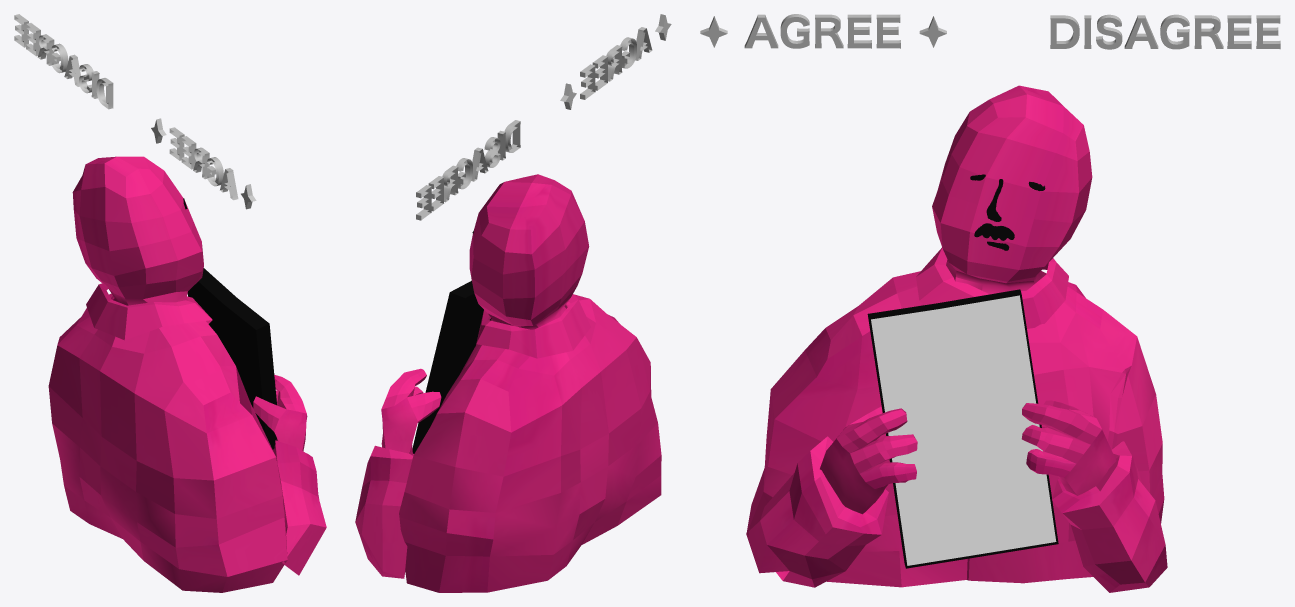
Rendered from read_man0.glb.
3 renders of one model, left to right at view 1: azimuth 30°, elevation 25°; view 2: azimuth 150°, elevation 25°; view 3: azimuth 270°, elevation 25°, orthographic. The views are drawn at different scales.
Visible parts, largest first — view 1: Box002_005, Box011, 投票字卡.svg.003, Object004.001, Box009; view 2: Box002_005, 投票字卡.svg.003, Object004.001, Box011, Box010; view 3: Box002_005, Box011, Object004.001, 投票字卡.svg.003, Box009, Box010, 表情.svg.
Boxes of the visible parts, left/top/right/bottom form: Box002_005: left=48, top=156, right=287, bottom=592; Box011: left=187, top=268, right=276, bottom=449; 投票字卡.svg.003: left=14, top=14, right=256, bottom=209; Object004.001: left=273, top=440, right=326, bottom=575; Box009: left=253, top=374, right=307, bottom=451; Box002_005: left=399, top=174, right=661, bottom=592; 投票字卡.svg.003: left=416, top=14, right=671, bottom=220; Object004.001: left=355, top=445, right=413, bottom=578; Box011: left=412, top=280, right=491, bottom=453; Box010: left=381, top=368, right=441, bottom=455; Box002_005: left=746, top=85, right=1164, bottom=587; Box011: left=867, top=289, right=1058, bottom=568; Object004.001: left=746, top=436, right=1167, bottom=592; 投票字卡.svg.003: left=700, top=14, right=1280, bottom=49; Box009: left=820, top=406, right=917, bottom=514; Box010: left=1021, top=400, right=1116, bottom=495; 表情.svg: left=970, top=174, right=1045, bottom=250.
Bounding box in the file's own units: 1.35 × 3.16 × 3.19.
Materials: 5 (1 with a texture image).
